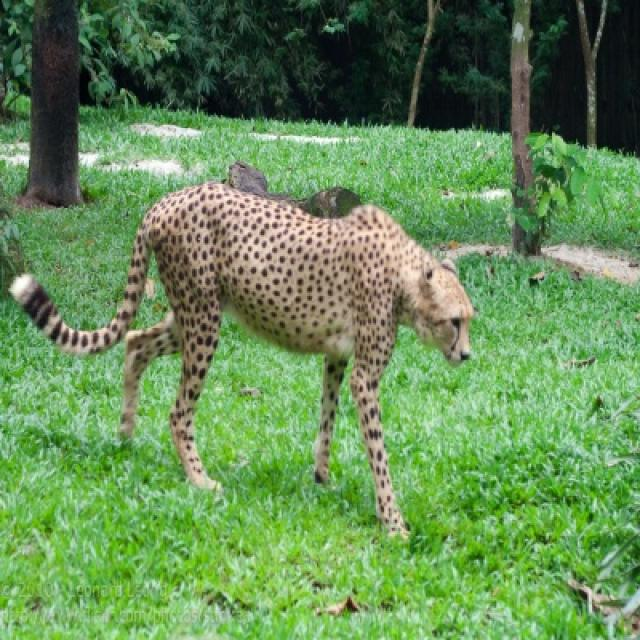Cheetah: (11, 177, 473, 538)
